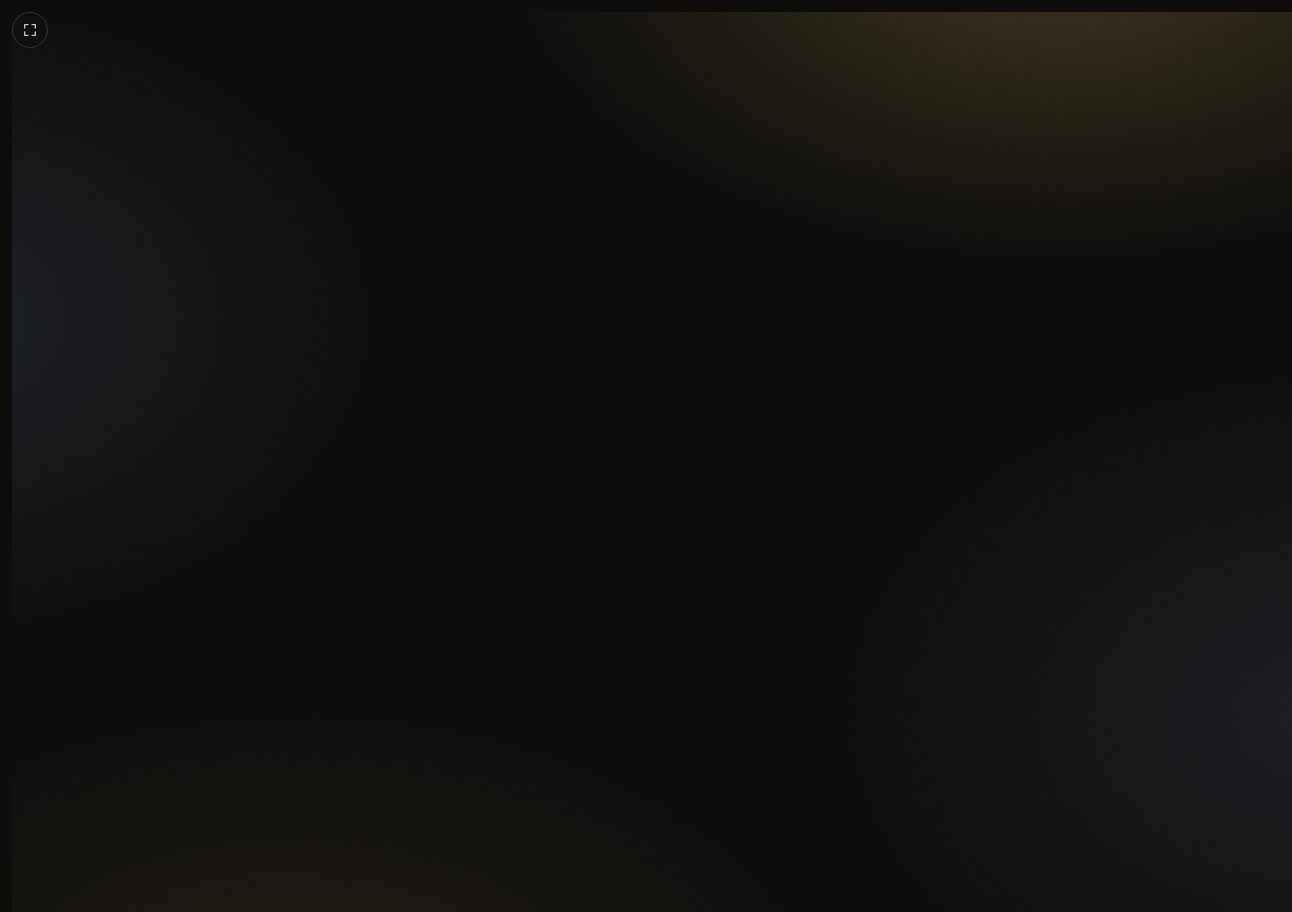
Test: while full screen a labelled exit button is always there, and it brings the page back
expect the button "Бүтэн дэлгэцээс гарах" is not shown: met
Click the button named "Бүтэн дэлгэц" at (30, 30), box left=12, top=12, right=48, bottom=48
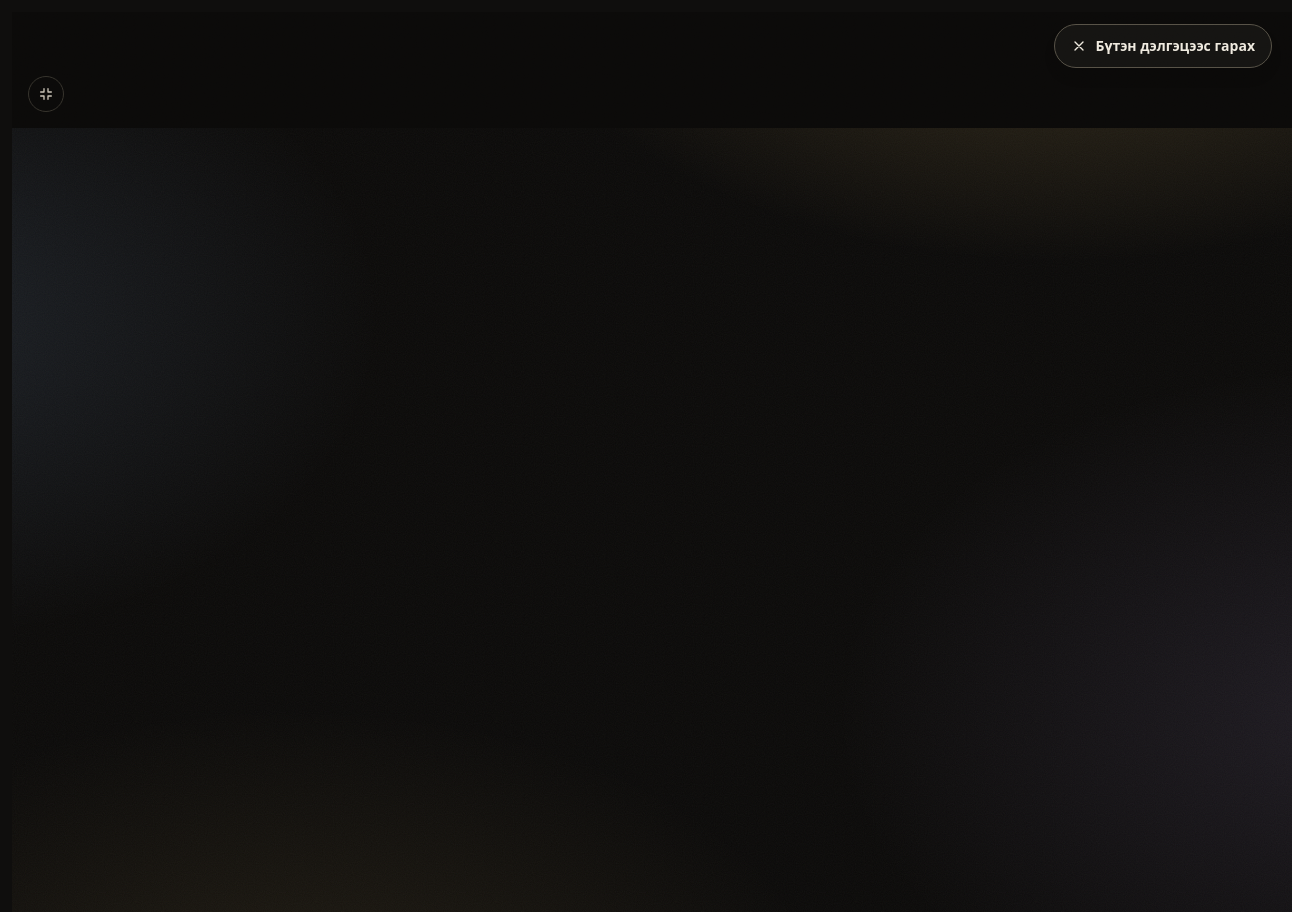
Click the button "Бүтэн дэлгэцээс гарах" at (1163, 46), box left=1054, top=24, right=1272, bottom=68
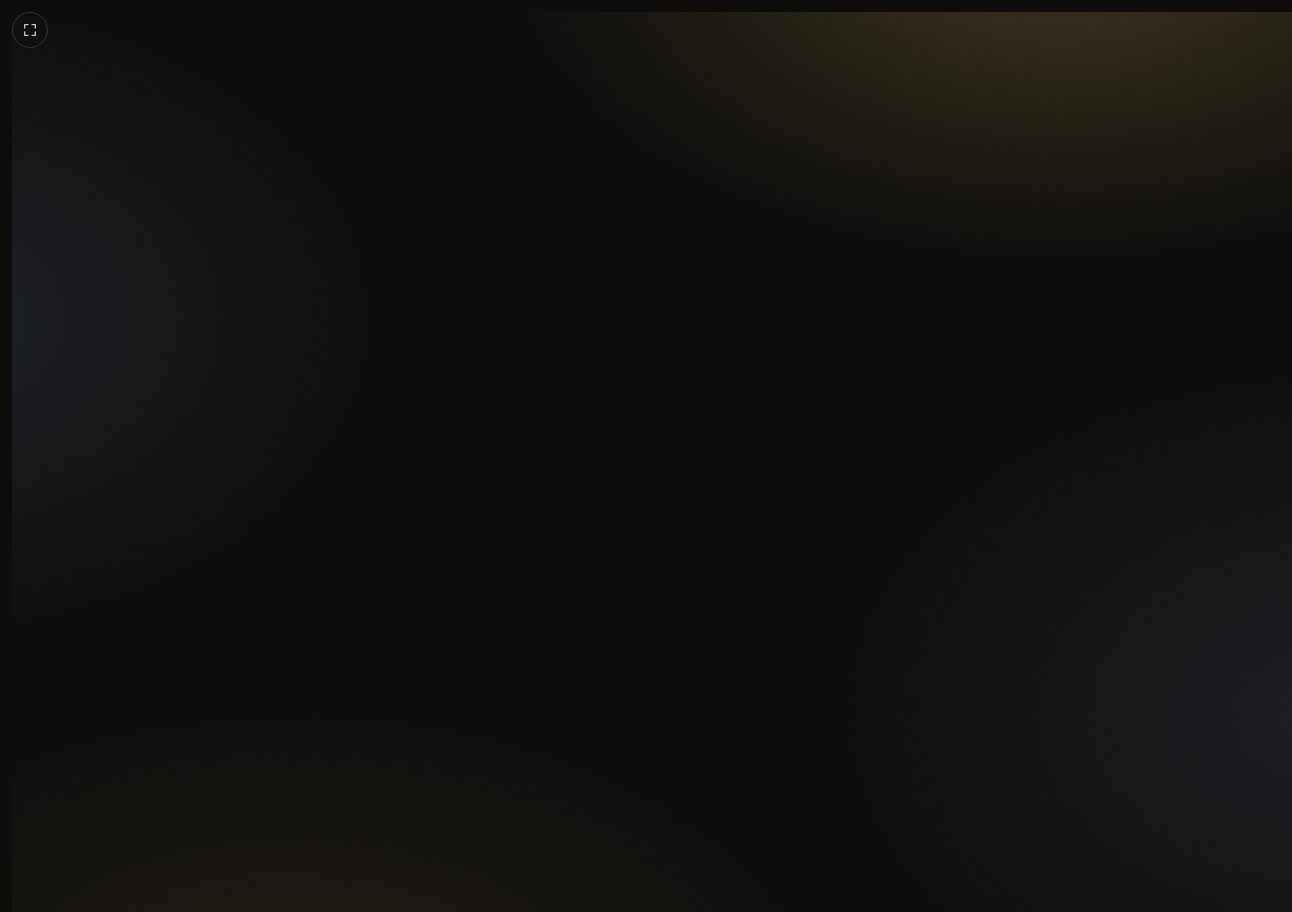
expect the button "Бүтэн дэлгэцээс гарах" is gone: met
